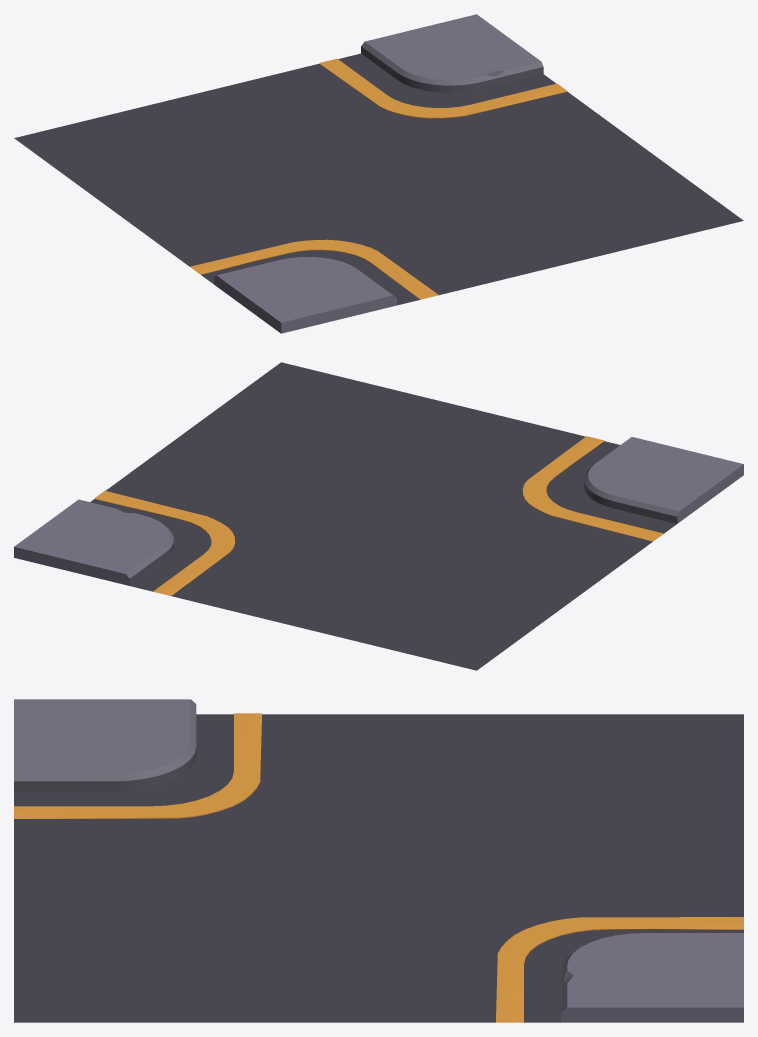
File: streetdonme.fbx
3 views of the same model, one above another, from view 1: azimuth 30°, elevation 25°; view 2: azimuth 150°, elevation 25°; view 3: azimuth 270°, elevation 25° (orthographic). The views are drawn at different scales.
Parts seen in each view (by area): view 1: yol.011; view 2: yol.011; view 3: yol.011.
Part boxes in pixels (x1=…): yol.011: x1=14, y1=14, x2=743, y2=333; yol.011: x1=14, y1=362, x2=743, y2=670; yol.011: x1=14, y1=699, x2=743, y2=1022.
Bounding box in the file's own units: 779 × 17.75 × 779.
3 materials, 1 textured.
